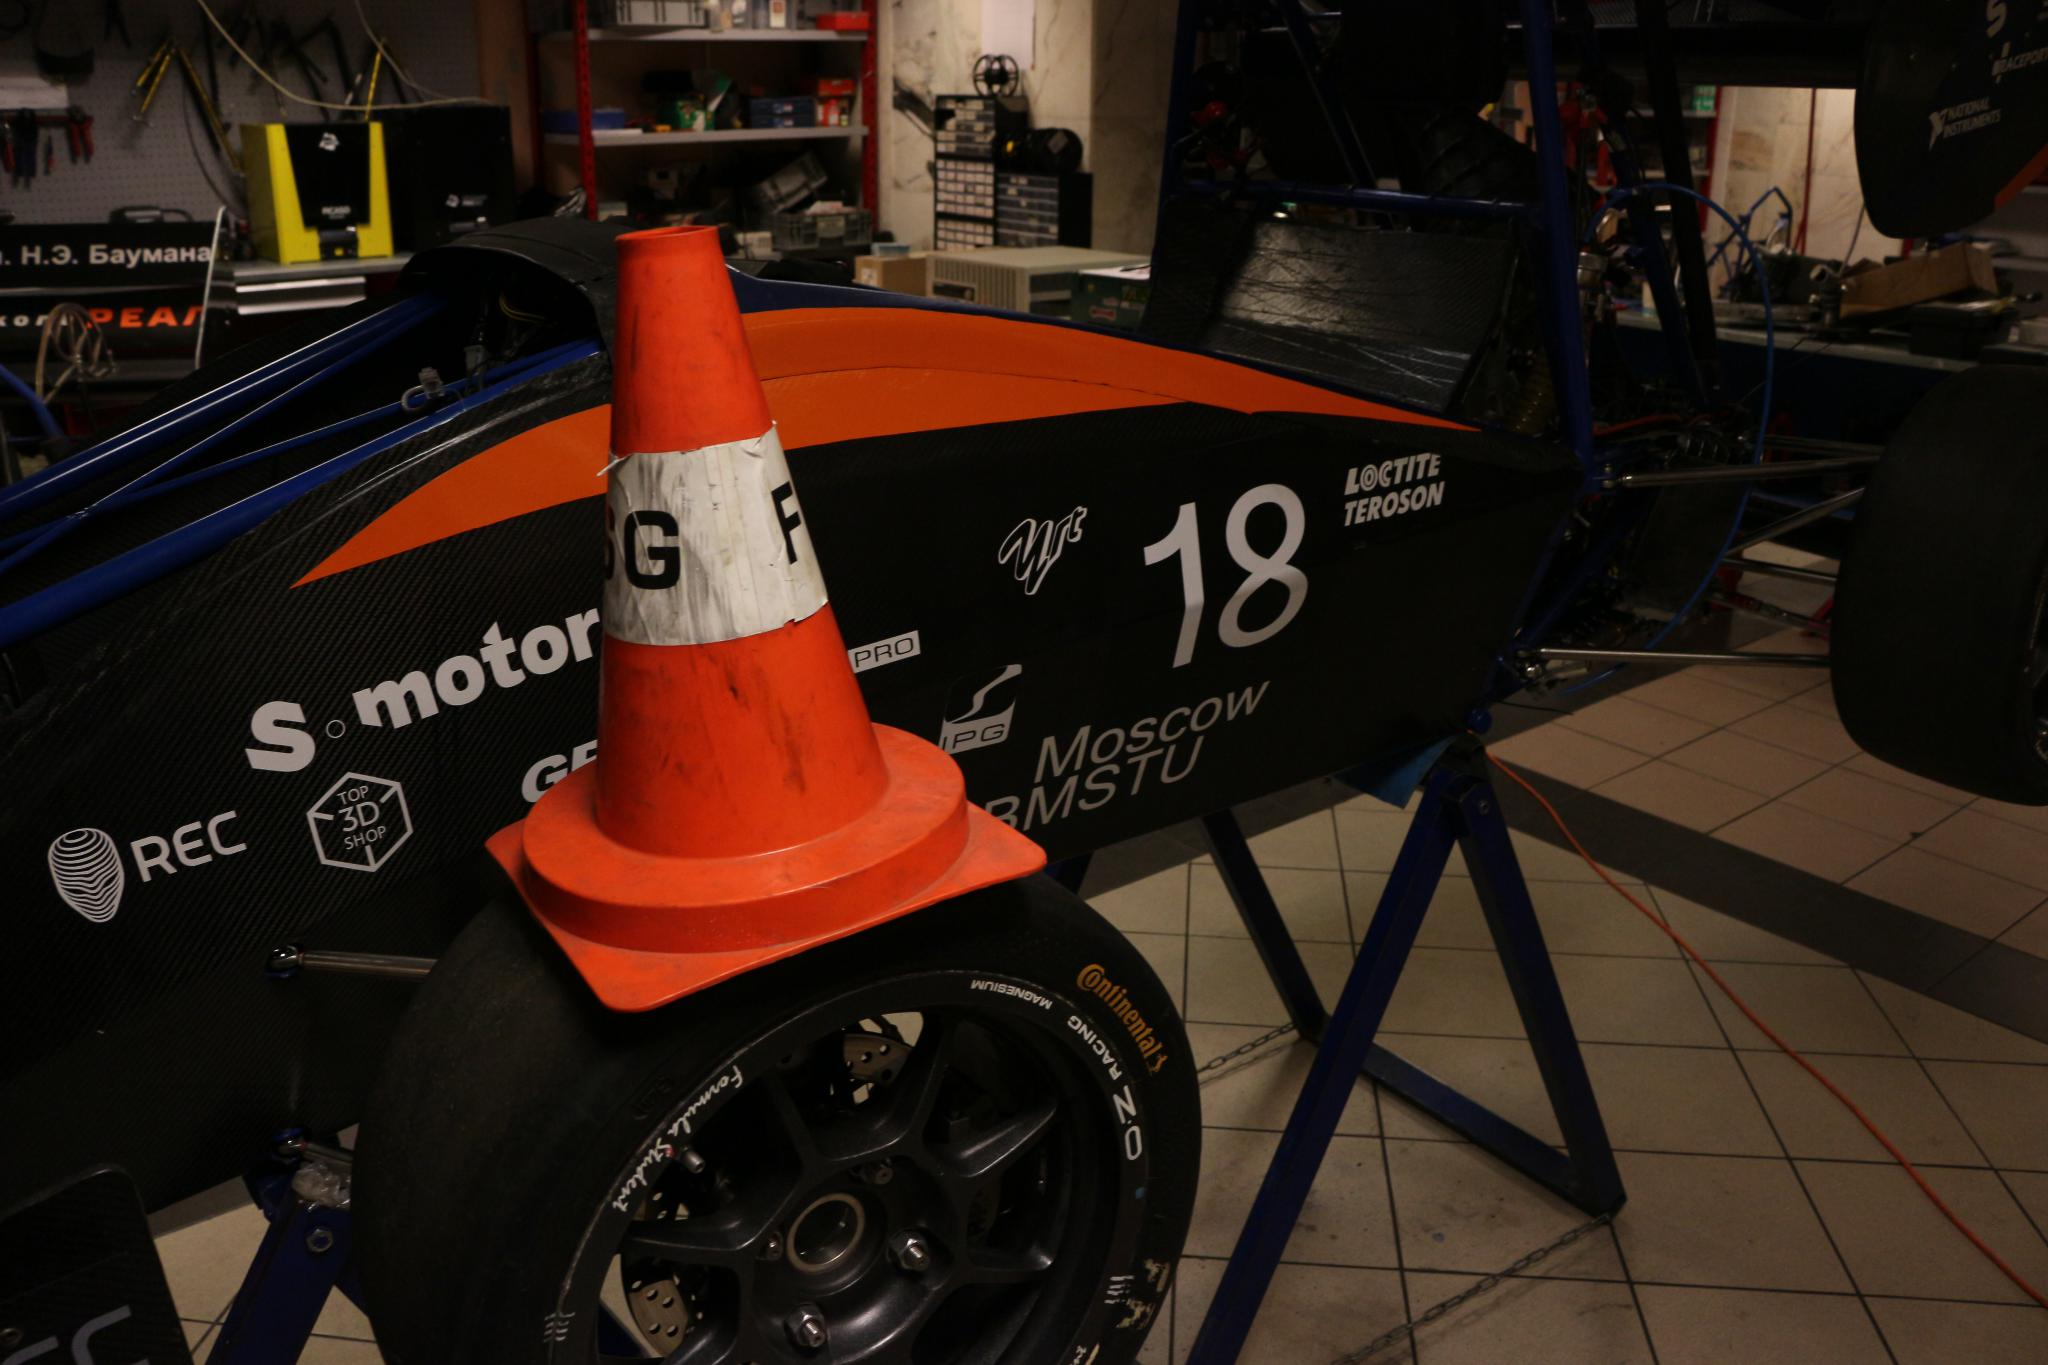Orange_Cone: (480, 216, 981, 948)
